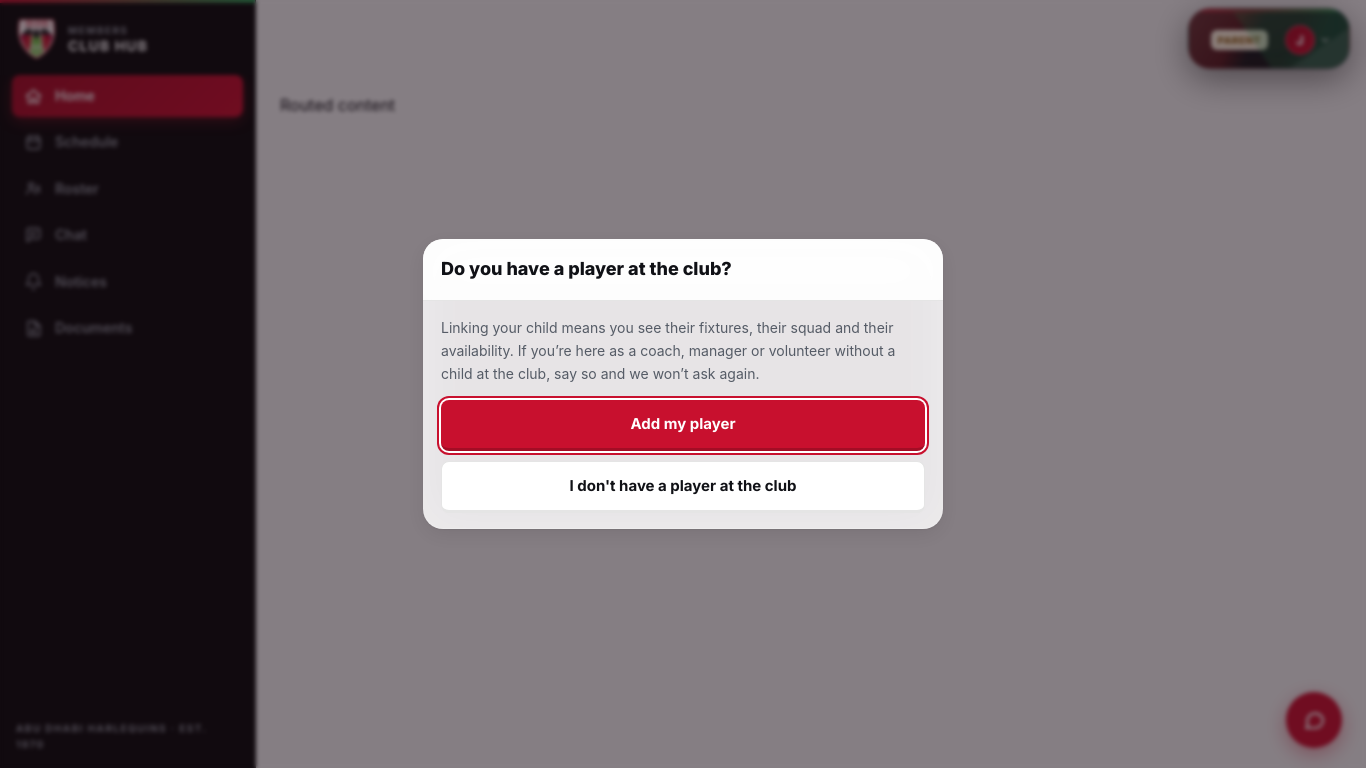
Test: NamePrompt — the role gate › follows straight on from the no-player answer
What coordinates should you click on to do the following:
click the button with test id "no-player"
I would click on:
 (683, 486)
Its box is left=441, top=460, right=925, bottom=512.
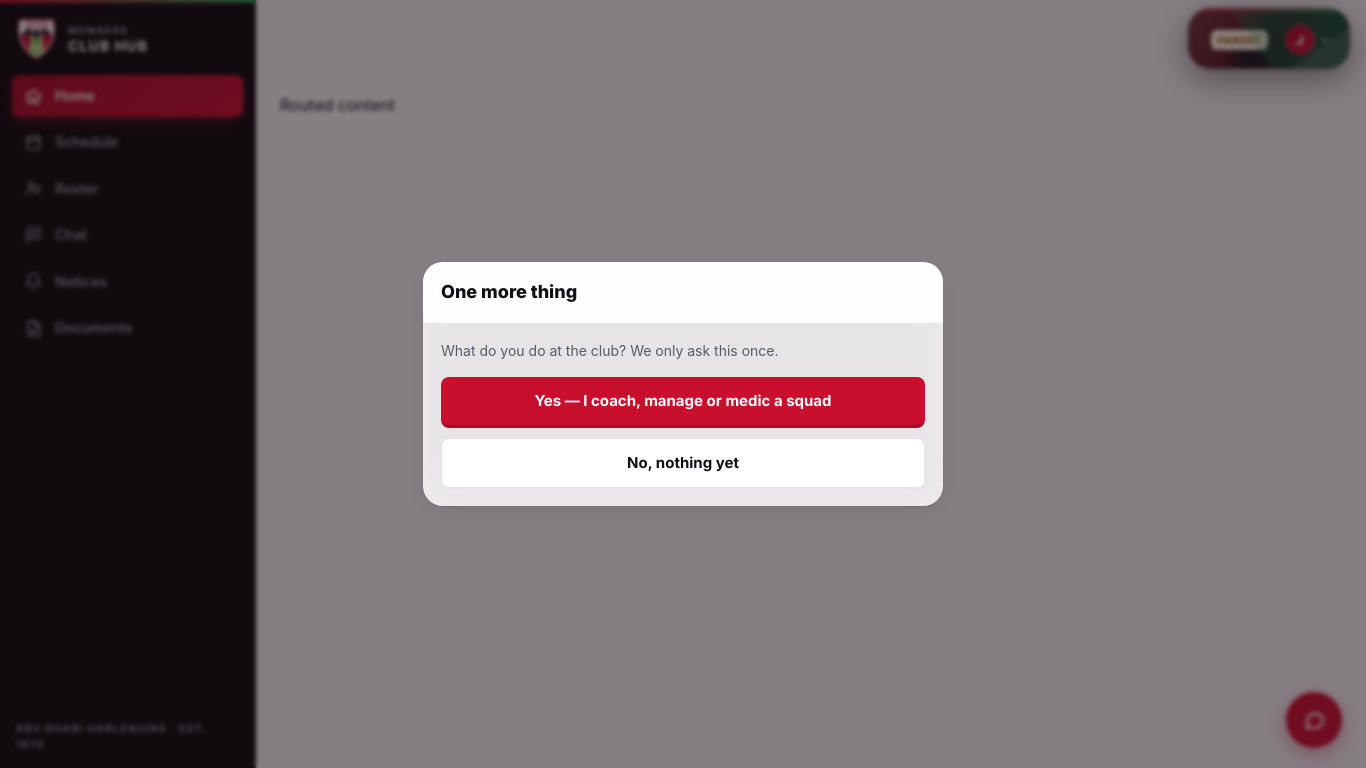
Result: the button with test id "claim-role" is shown at left=441, top=377, right=925, bottom=428
